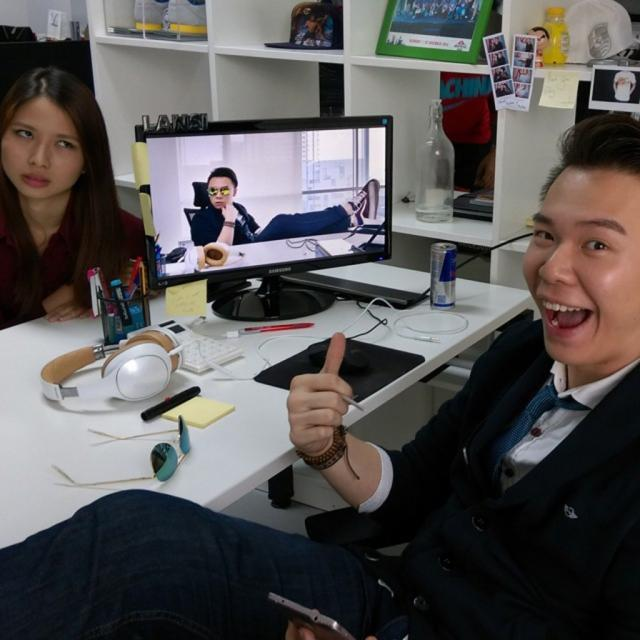desk: (0, 262, 528, 508)
person: (274, 110, 635, 636), (0, 66, 140, 329), (190, 166, 262, 251)
tv: (139, 115, 394, 294)
